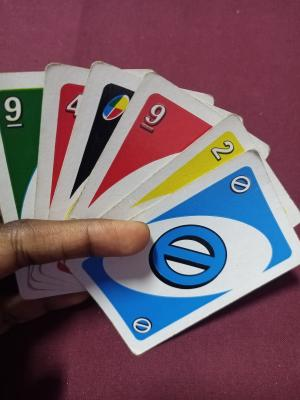blue: (162, 206, 292, 270)
num_2: (210, 136, 234, 163)
num_9: (138, 100, 169, 134), (3, 94, 25, 130)
red: (123, 133, 169, 160)
skip: (226, 173, 256, 198), (129, 313, 155, 336)
wild: (101, 92, 131, 124)
